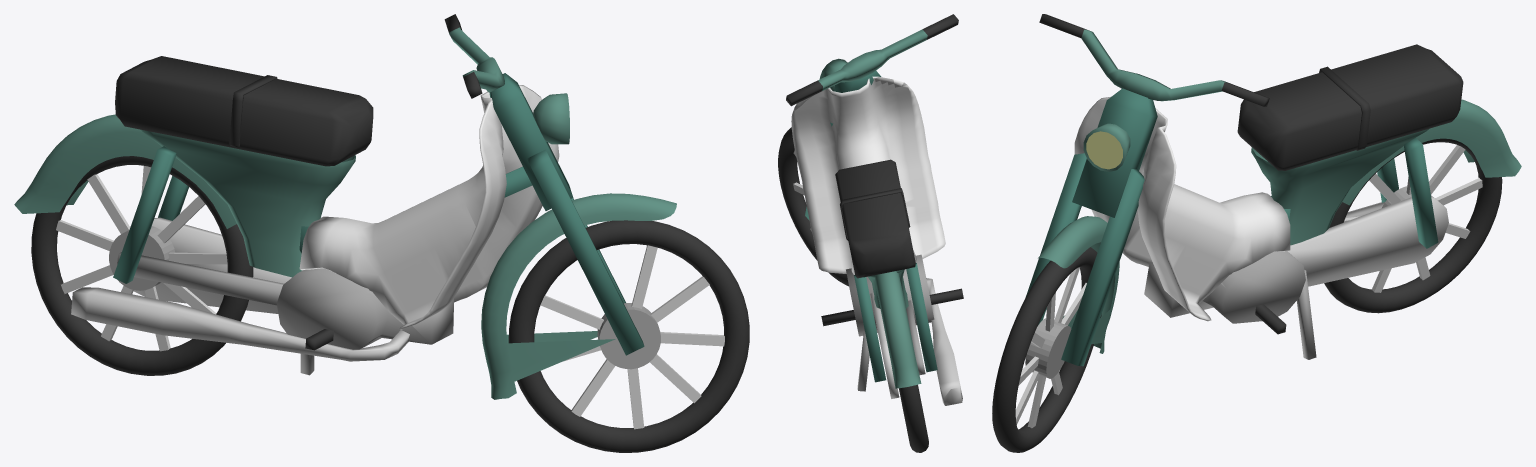
File: Cab.fbx
The picture shows the model from 3 angles, left to right: view 1: azimuth 30°, elevation 25°; view 2: azimuth 150°, elevation 25°; view 3: azimuth 270°, elevation 25°; orthographic projection. The views are drawn at different scales.
Visible parts, largest first — view 1: Cab; view 2: Cab; view 3: Cab.
Boxes of the visible parts, box(x1,y1,x2,y2) form: Cab: box(14, 14, 749, 452); Cab: box(778, 14, 963, 452); Cab: box(992, 14, 1521, 452).
Bounding box in the file's own units: 135 × 112 × 148.
